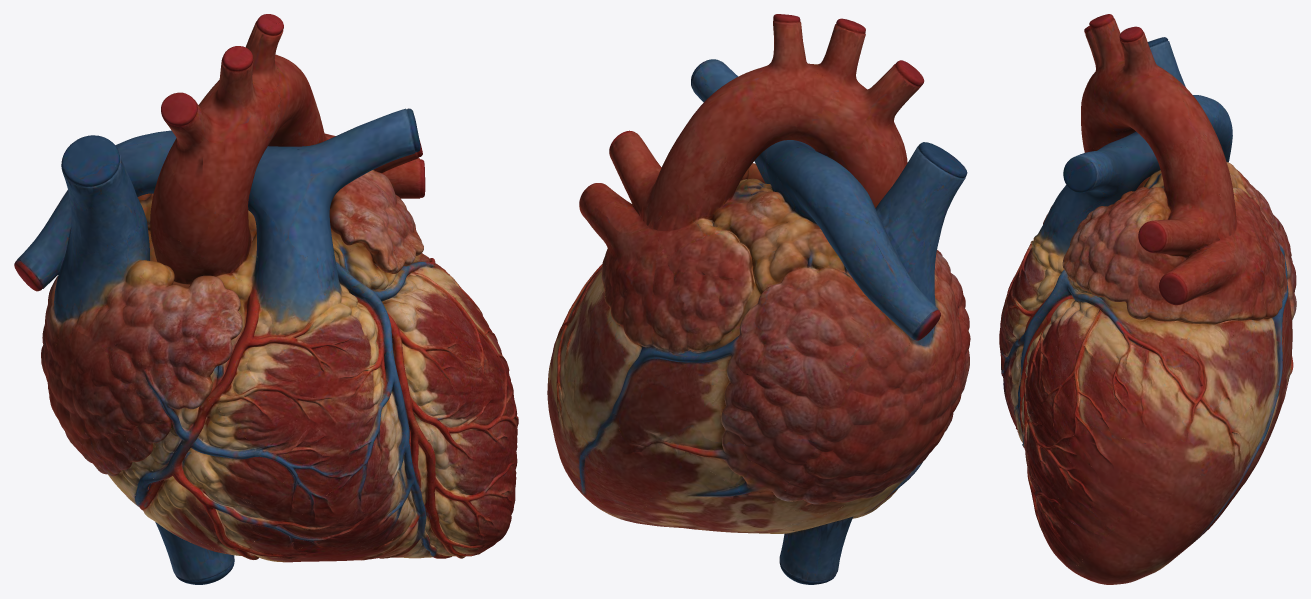
The model's file is heart.glb.
3 renders of one model, left to right at view 1: azimuth 30°, elevation 25°; view 2: azimuth 150°, elevation 25°; view 3: azimuth 270°, elevation 25°, orthographic. The views are drawn at different scales.
Parts seen in each view (by area): view 1: human-heart; view 2: human-heart; view 3: human-heart.
Boxes of the visible parts, x1,y1,x2,y2 form: human-heart: (14, 14, 518, 584); human-heart: (547, 14, 970, 584); human-heart: (999, 14, 1296, 584).
Size of the model in its own units: 0.0984 by 0.1211 by 0.0687.
1 material, 1 textured.
